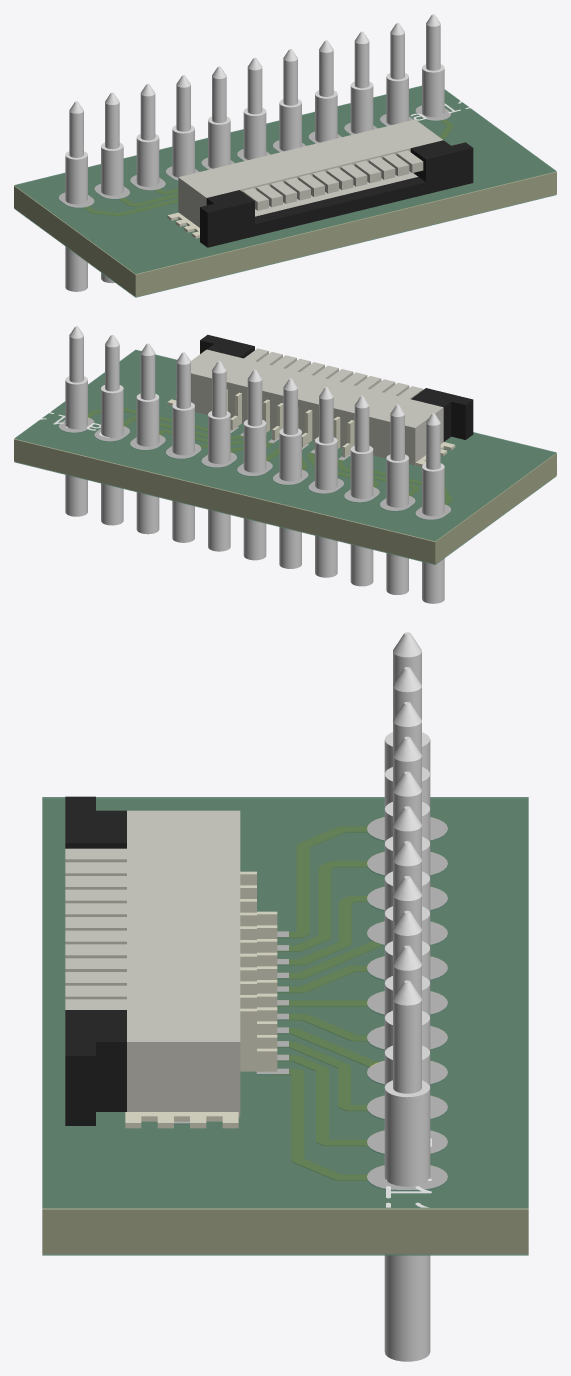
File: F91-Debugger_Connector.glb
The picture shows the model from 3 angles, top to bottom: view 1: azimuth 30°, elevation 25°; view 2: azimuth 150°, elevation 25°; view 3: azimuth 270°, elevation 25°; orthographic projection. The views are drawn at different scales.
Visible parts, largest first — view 1: =>[0:1:1:11], =>[0:1:1:3] (×11), =>[0:1:1:5], =>[0:1:1:9], =>[0:1:1:7], =>[0:1:1:10], =>[0:1:1:6]; view 2: =>[0:1:1:11], =>[0:1:1:3] (×11), =>[0:1:1:9], =>[0:1:1:5], =>[0:1:1:7], =>[0:1:1:6], =>[0:1:1:10]; view 3: =>[0:1:1:11], =>[0:1:1:9], =>[0:1:1:5], =>[0:1:1:3] (×11), =>[0:1:1:6], =>[0:1:1:7], =>[0:1:1:10].
Part boxes in pixels (x1,y1,x2,y2): =>[0:1:1:11]: (14, 87, 556, 296); =>[0:1:1:3] (×11): (65, 14, 444, 291); =>[0:1:1:5]: (167, 119, 473, 247); =>[0:1:1:9]: (14, 85, 556, 273); =>[0:1:1:7]: (59, 105, 450, 226); =>[0:1:1:10]: (14, 194, 556, 297); =>[0:1:1:6]: (85, 120, 452, 215); =>[0:1:1:11]: (14, 351, 556, 564); =>[0:1:1:3] (×11): (65, 326, 444, 603); =>[0:1:1:9]: (14, 349, 556, 541); =>[0:1:1:5]: (167, 334, 473, 466); =>[0:1:1:7]: (59, 417, 450, 519); =>[0:1:1:6]: (88, 408, 452, 504); =>[0:1:1:10]: (14, 462, 556, 564); =>[0:1:1:11]: (42, 799, 528, 1254); =>[0:1:1:9]: (42, 797, 528, 1208); =>[0:1:1:5]: (65, 796, 277, 1128); =>[0:1:1:3] (×11): (384, 632, 430, 1361); =>[0:1:1:6]: (278, 826, 381, 1180); =>[0:1:1:7]: (174, 817, 447, 1190); =>[0:1:1:10]: (42, 1254, 528, 1255).
Bounding box in the file's own units: 0.03 × 0.0126 × 0.015.
